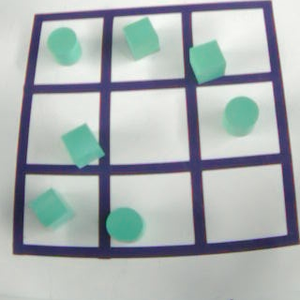cube: (24, 185, 81, 236), (116, 13, 169, 66), (57, 120, 109, 172), (183, 36, 234, 89)
cylinder: (42, 22, 90, 69), (220, 92, 264, 141), (102, 202, 150, 246)
empty: (195, 162, 294, 248), (103, 85, 195, 172)
